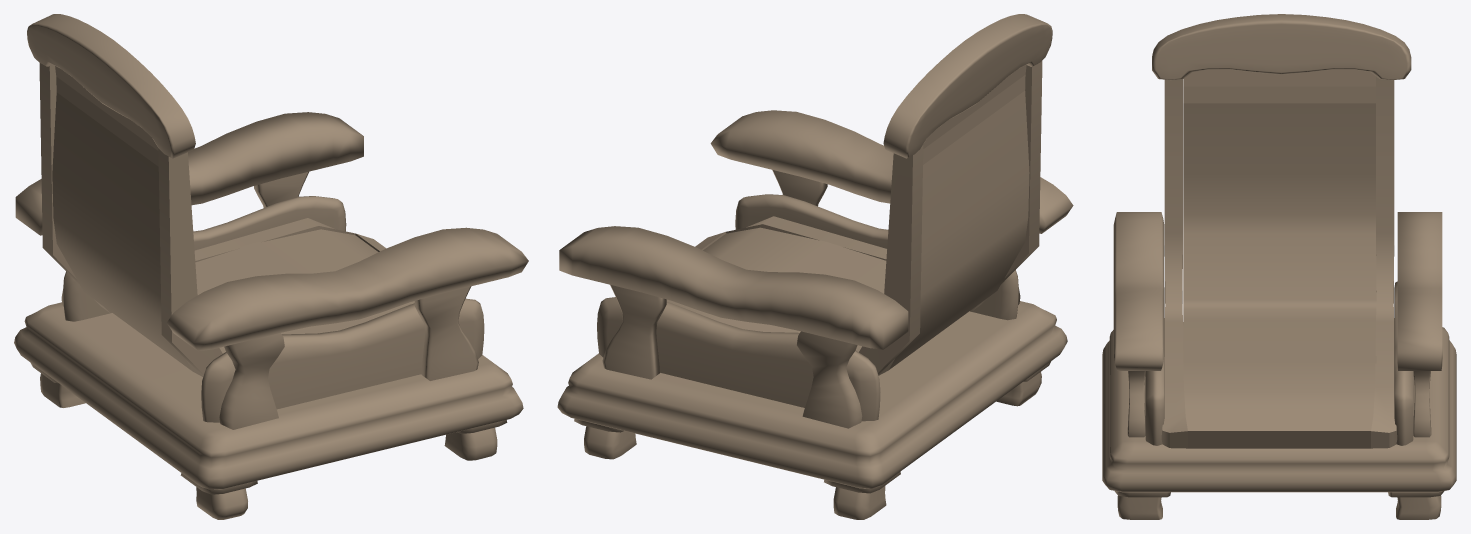
The model's file is woodchair_head2.fbx.
3 views of the same model, side by side, from view 1: azimuth 30°, elevation 25°; view 2: azimuth 150°, elevation 25°; view 3: azimuth 270°, elevation 25° (orthographic). The views are drawn at different scales.
Parts seen in each view (by area): view 1: woodchair_head2; view 2: woodchair_head2; view 3: woodchair_head2.
Boxes of the visible parts, x1=… form: woodchair_head2: x1=14, y1=14, x2=528, y2=519; woodchair_head2: x1=557, y1=14, x2=1073, y2=519; woodchair_head2: x1=1102, y1=14, x2=1456, y2=519.
Bounding box in the file's own units: 171 × 200 × 172.
